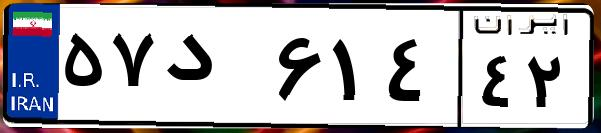1: (330, 28, 385, 110)
2: (525, 38, 570, 115)
4: (385, 28, 445, 110), (475, 38, 525, 113)
5: (57, 26, 110, 100)
6: (270, 28, 330, 110)
7: (110, 28, 158, 98)
د: (158, 20, 270, 120)
